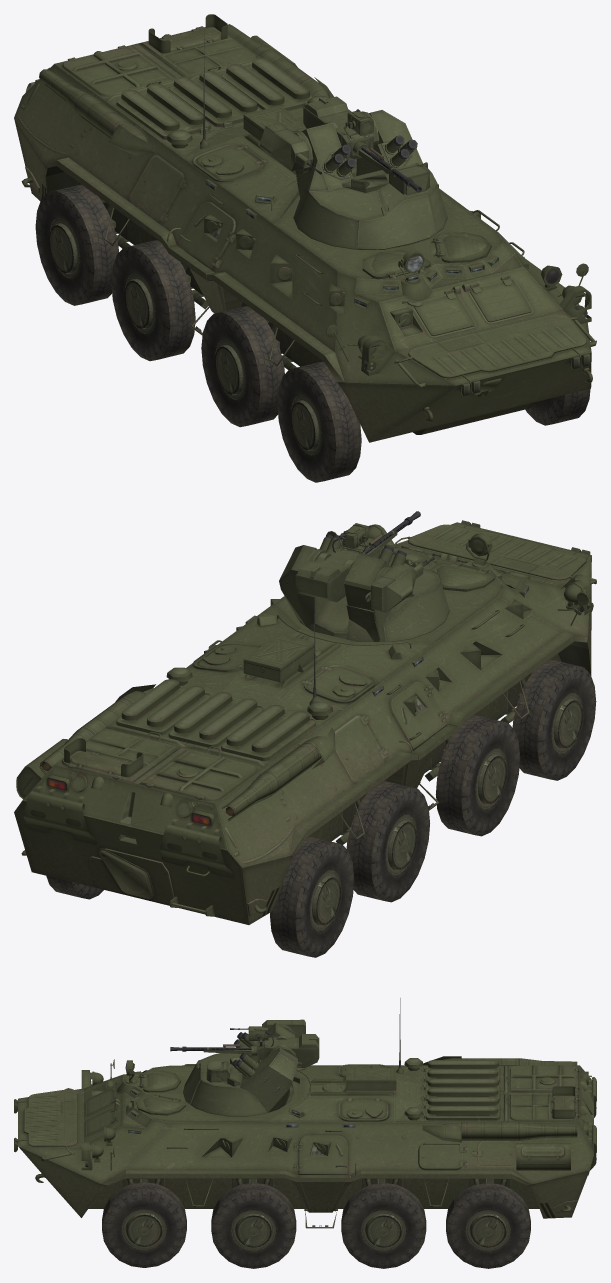
The model's file is btr82.glb.
3 views of the same model, one above another, from view 1: azimuth 30°, elevation 25°; view 2: azimuth 150°, elevation 25°; view 3: azimuth 270°, elevation 25° (orthographic). The views are drawn at different scales.
Parts seen in each view (by area): view 1: Body, Turret; view 2: Body, Turret; view 3: Body, Turret.
Boxes of the visible parts, x1,y1,x2,y2 form: Body: (14,14,596,482); Turret: (260,96,447,249); Body: (14,520,596,957); Turret: (279,511,449,641); Body: (14,998,596,1268); Turret: (170,1019,319,1116).
Bounding box in the file's own units: 2.91 × 3.2 × 7.7.
Materials: 7 (6 with a texture image).
